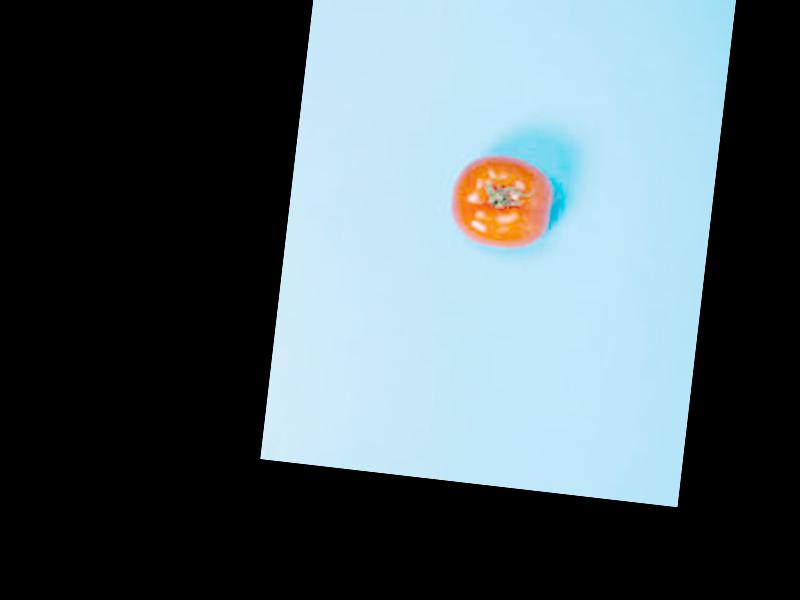Tomato: (445, 147, 556, 251)
